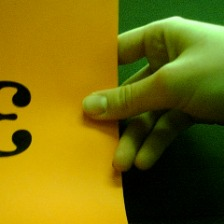orange3: (1, 77, 41, 165)
